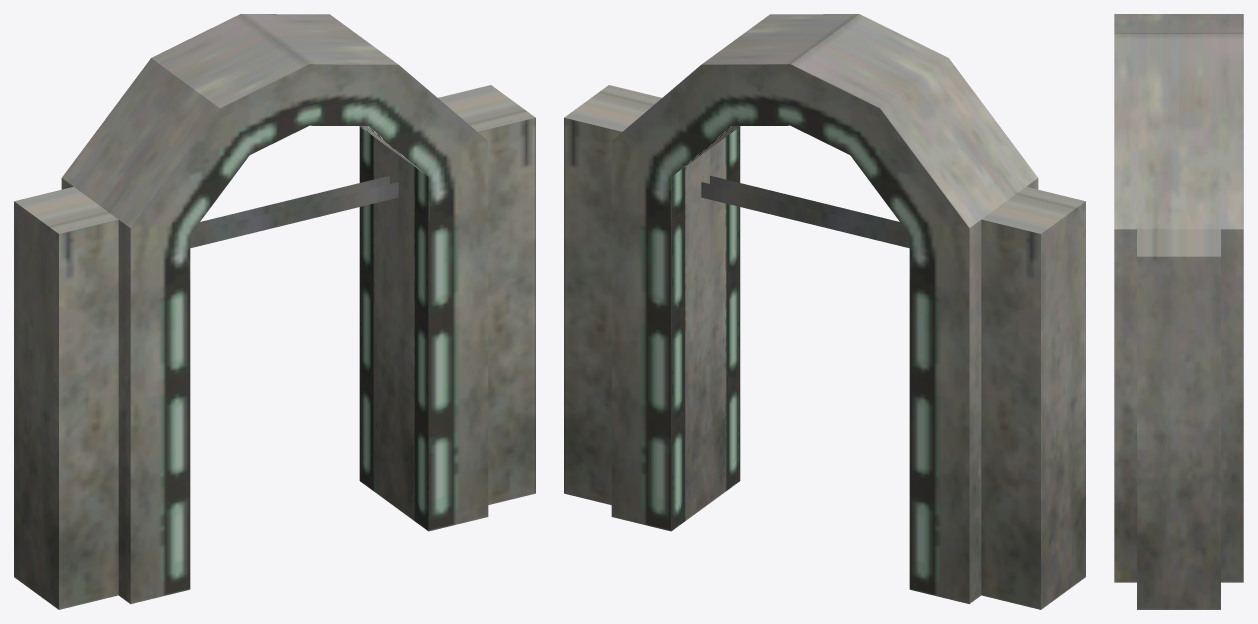
Rendered from thm_corl_imprv_gate_sm_s03_l2.fbx.
The picture shows the model from 3 angles, left to right: view 1: azimuth 30°, elevation 25°; view 2: azimuth 150°, elevation 25°; view 3: azimuth 270°, elevation 25°; orthographic projection. The views are drawn at different scales.
Visible parts, largest first — view 1: mesh_node; view 2: mesh_node; view 3: mesh_node.
Boxes of the visible parts, <box> form: mesh_node: <box>14,14,535,609</box>; mesh_node: <box>564,14,1085,609</box>; mesh_node: <box>1114,14,1243,609</box>.
Bounding box in the file's own units: 8 × 7.95 × 2.
